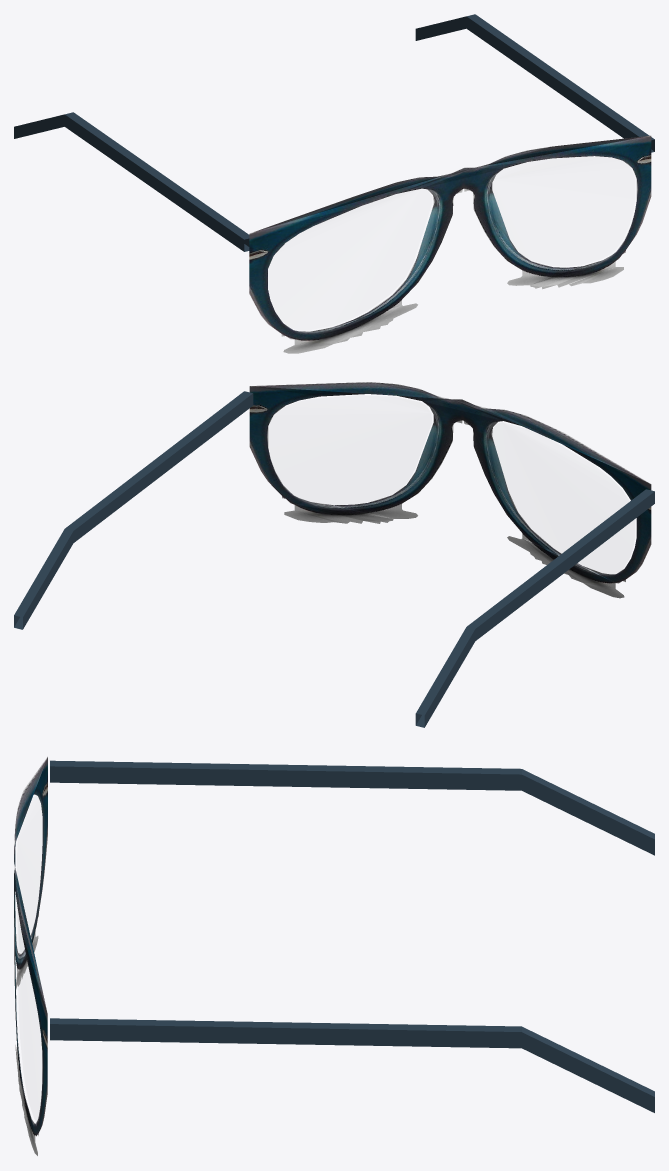
File: gothamstyle-matte-collection-252_matte-green.glb
3 views of the same model, one above another, from view 1: azimuth 30°, elevation 25°; view 2: azimuth 150°, elevation 25°; view 3: azimuth 270°, elevation 25° (orthographic). The views are drawn at different scales.
Visible parts, largest first — view 1: frame_front, temple_viewer_left, temple_viewer_right; view 2: frame_front, temple_viewer_left, temple_viewer_right; view 3: temple_viewer_right, temple_viewer_left, frame_front.
Part boxes in pixels (box(x1,y1,x2,y2)): frame_front: box(249, 135, 651, 353); temple_viewer_left: box(14, 112, 249, 251); temple_viewer_right: box(415, 14, 654, 152); frame_front: box(249, 382, 651, 598); temple_viewer_left: box(415, 489, 654, 727); temple_viewer_right: box(14, 391, 253, 629); temple_viewer_right: box(50, 1018, 654, 1112); temple_viewer_left: box(50, 760, 654, 855); frame_front: box(14, 756, 47, 1155).
Size of the model in its own units: 0.139 by 0.0498 by 0.143.
Materials: 3 (2 with a texture image).
